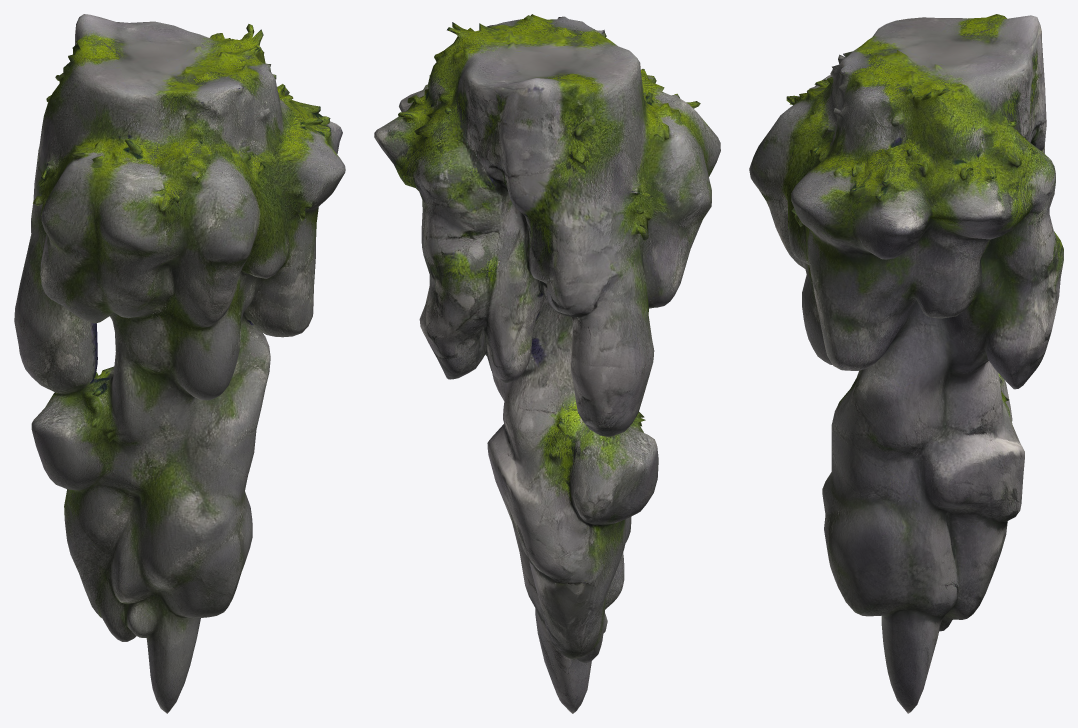
File: Mossy_Monolith.glb
3 views of the same model, side by side, from view 1: azimuth 30°, elevation 25°; view 2: azimuth 150°, elevation 25°; view 3: azimuth 270°, elevation 25° (orthographic). The views are drawn at different scales.
Visible parts, largest first — view 1: Mossy_Monolith; view 2: Mossy_Monolith; view 3: Mossy_Monolith.
Part boxes in pixels (bbox=[...]): Mossy_Monolith: bbox=[14, 14, 345, 713]; Mossy_Monolith: bbox=[374, 14, 720, 713]; Mossy_Monolith: bbox=[749, 14, 1063, 713].
Bounding box in the file's own units: 0.8963 × 1.9 × 0.7906.
Materials: 1 (1 with a texture image).
